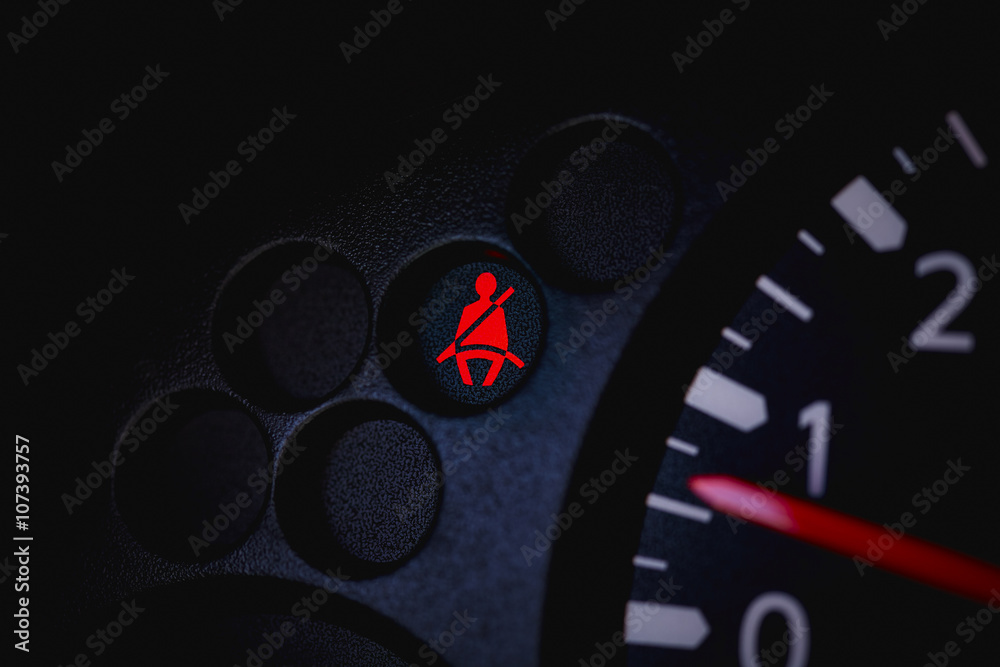Seatbelt_warning: (438, 269, 528, 388)
